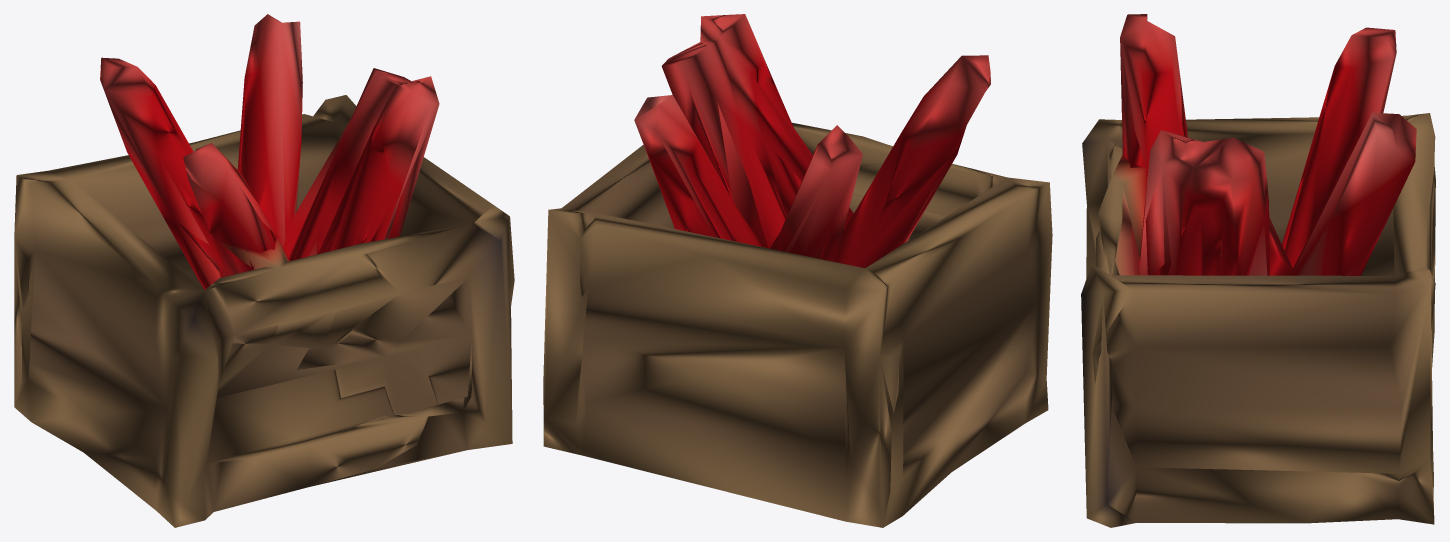
Rendered from gen3d-tnt-crate-lod1.glb.
3 views of the same model, side by side, from view 1: azimuth 30°, elevation 25°; view 2: azimuth 150°, elevation 25°; view 3: azimuth 270°, elevation 25° (orthographic). The views are drawn at different scales.
Visible parts, largest first — view 1: part_0; view 2: part_0; view 3: part_0.
Part boxes in pixels (box(x1,y1,x2,y2)): part_0: box(14, 14, 514, 527); part_0: box(543, 14, 1052, 527); part_0: box(1081, 14, 1435, 527).
Size of the model in its own units: 0.9829 by 0.9751 by 0.8509.
